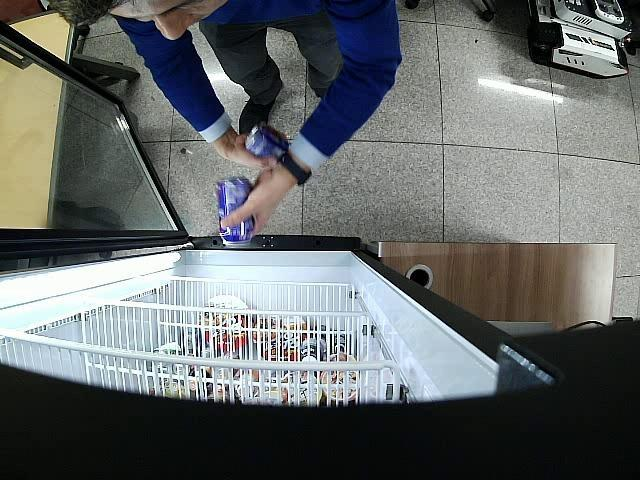14_welchsGrape: (214, 176, 254, 248), (246, 123, 290, 161)
